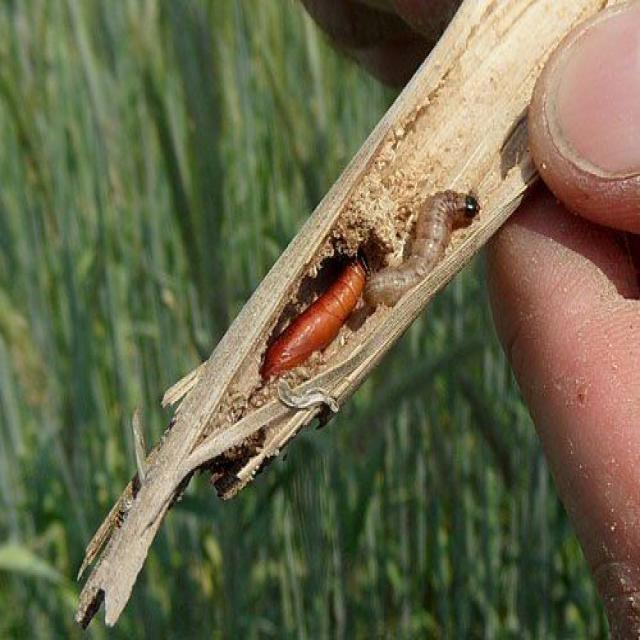cornborer-Larva-: (358, 182, 481, 322)
